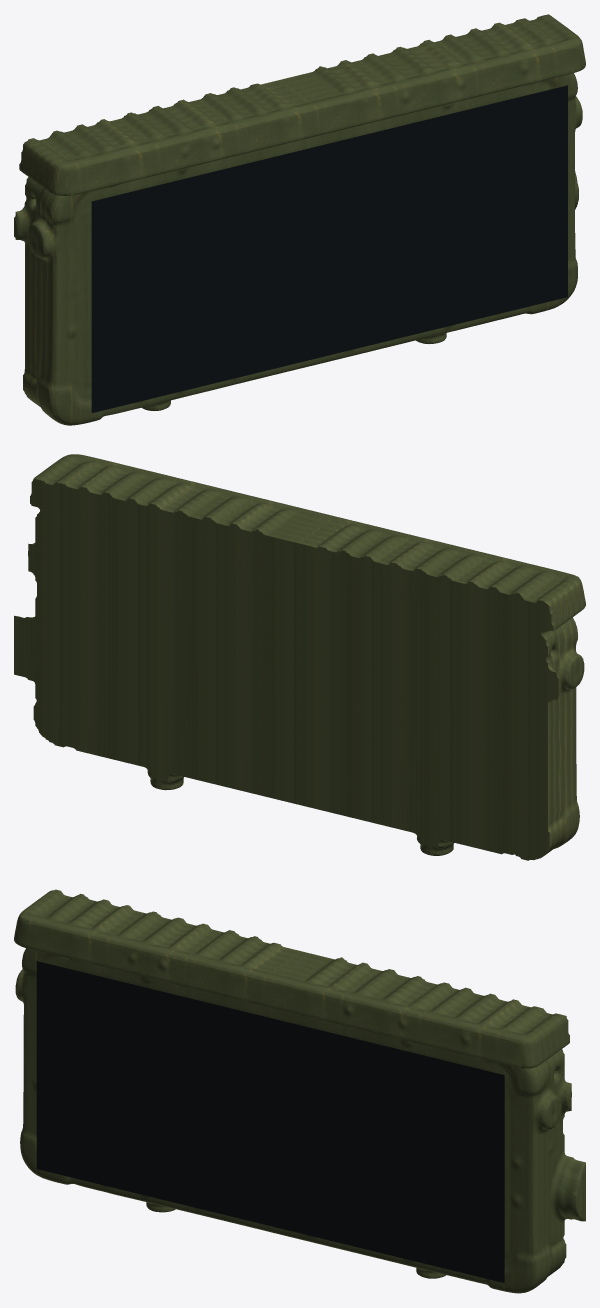
Rendered from panel.glb.
3 renders of one model, top to bottom at view 1: azimuth 30°, elevation 25°; view 2: azimuth 150°, elevation 25°; view 3: azimuth 330°, elevation 25°, orthographic.
Parts seen in each view (by area): view 1: DisplayPlane, Panel_ArmoredBody; view 2: Panel_ArmoredBody; view 3: DisplayPlane, Panel_ArmoredBody.
Boxes of the visible parts, bbox=[...] form: DisplayPlane: bbox=[91, 85, 567, 412]; Panel_ArmoredBody: bbox=[14, 14, 585, 425]; Panel_ArmoredBody: bbox=[14, 454, 585, 860]; DisplayPlane: bbox=[36, 961, 504, 1282]; Panel_ArmoredBody: bbox=[14, 889, 585, 1293].
Bounding box in the file's own units: 2.8 × 1.4 × 0.3595.
Materials: 2 (1 with a texture image).
